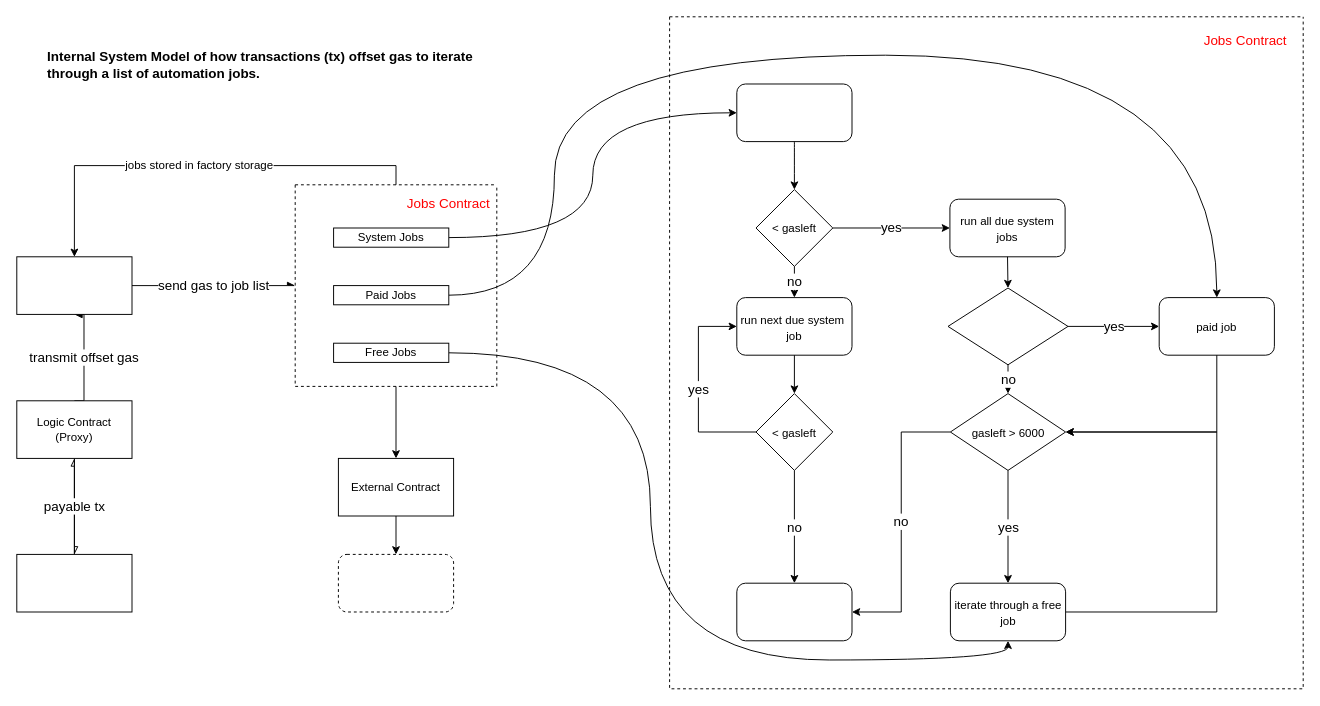
This 1320x706 diagram has some shape labels left out. The shapes that lost their labels are listed below. From the top down, each one's box as (x1, y1, x2, y2) in pixels, then its label:
(736, 83, 852, 142): get gas total to process all due system jobs
(16, 256, 132, 314): Factory (Gas Delegation)
(947, 287, 1068, 365): gasleft > 20000
(16, 553, 132, 612): State Contract (Delegate)
(337, 553, 454, 612): call external function
(736, 582, 852, 641): return
